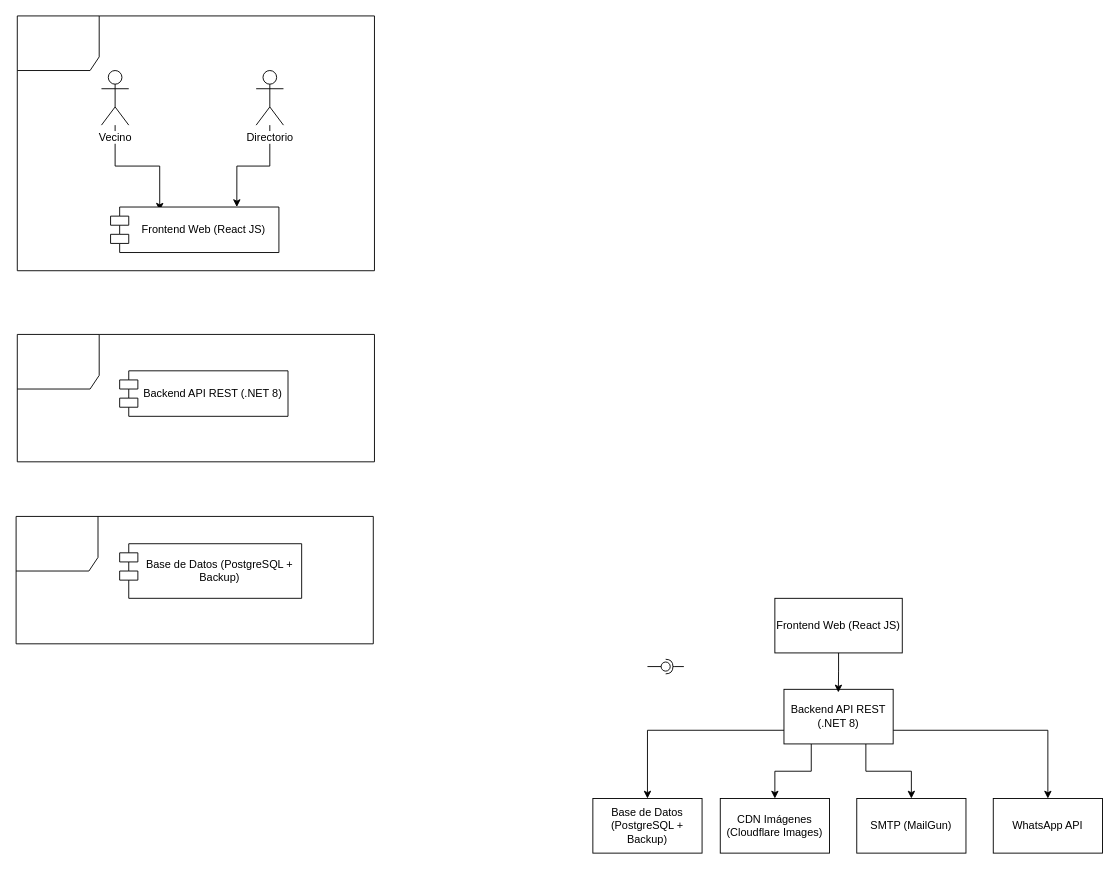
Some shapes in this 1118 by 869 pixel diagram are drawn without their labels. Each missing label, with the box of its shape:
Capa de aplicación: (16, 334, 374, 462)
Capa de Datos y servicios externos: (15, 516, 373, 644)
Capa de presentación: (16, 15, 374, 271)
